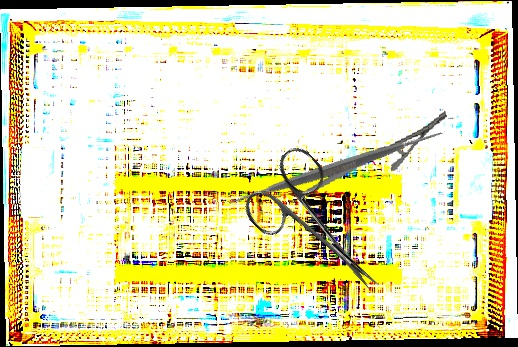Iris Scissors: (233, 141, 409, 318)
Needle Holder: (295, 110, 457, 196)
Spatula Surgical: (217, 49, 453, 286)
